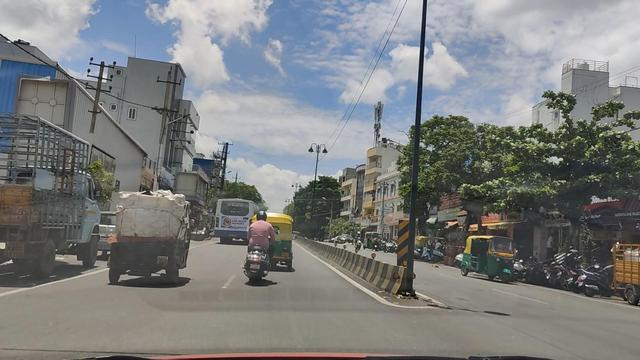HMV: (3, 118, 100, 277), (206, 200, 251, 244)
LMV: (107, 192, 190, 291), (242, 213, 273, 279), (250, 223, 295, 263)
